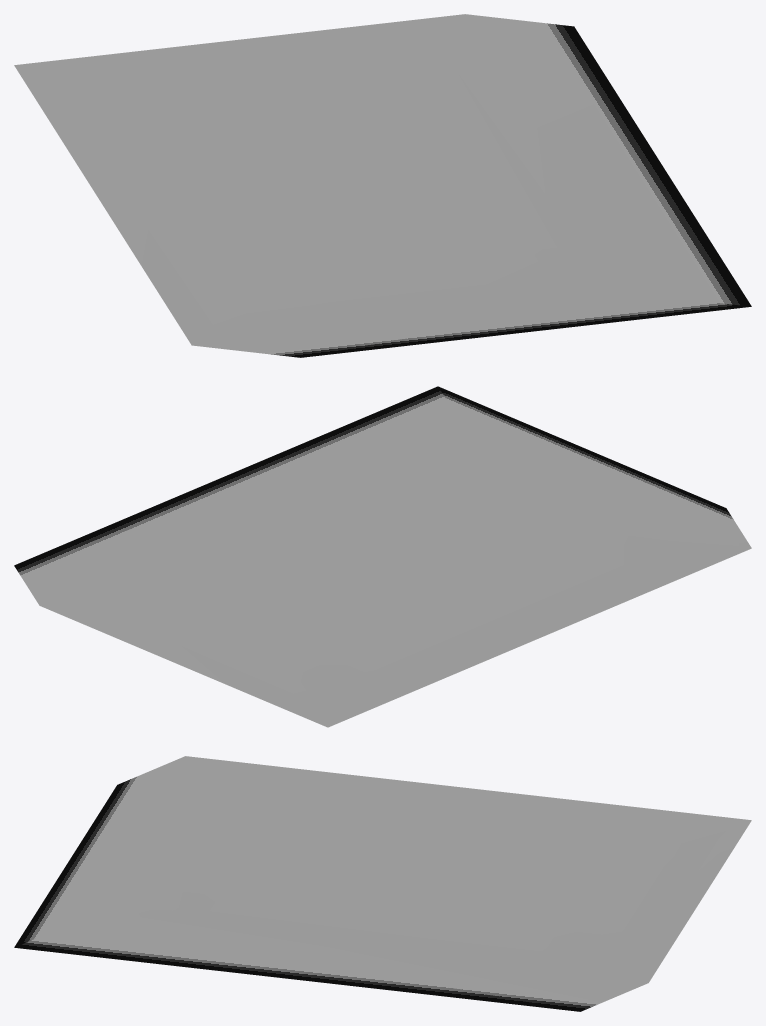
The picture shows the model from 3 angles, top to bottom: view 1: azimuth 30°, elevation 25°; view 2: azimuth 150°, elevation 25°; view 3: azimuth 270°, elevation 25°; orthographic projection. The views are drawn at different scales.
Parts seen in each view (by area): view 1: Joint_0_Object_0; view 2: Joint_0_Object_0; view 3: Joint_0_Object_0.
Boxes of the visible parts, x1,y1,x2,y2 form: Joint_0_Object_0: [14, 14, 751, 357]; Joint_0_Object_0: [14, 386, 751, 727]; Joint_0_Object_0: [14, 756, 751, 1011].
Bounding box in the file's own units: 888 × 1 × 1082.
